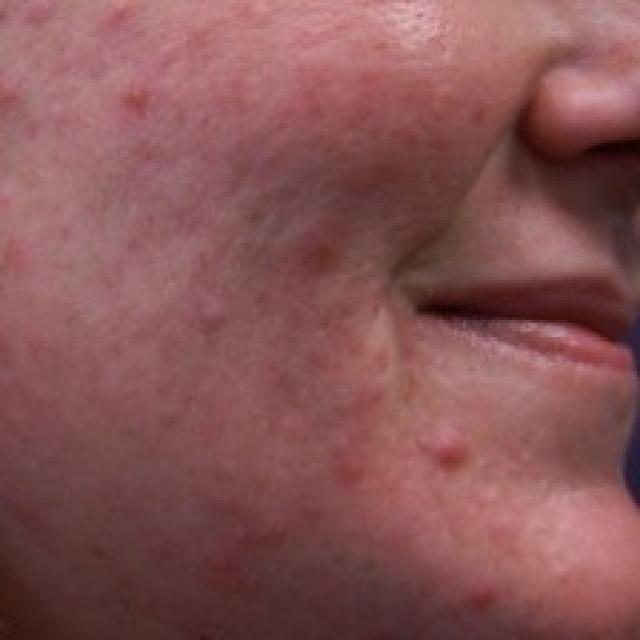Acne: (39, 59, 501, 639)
